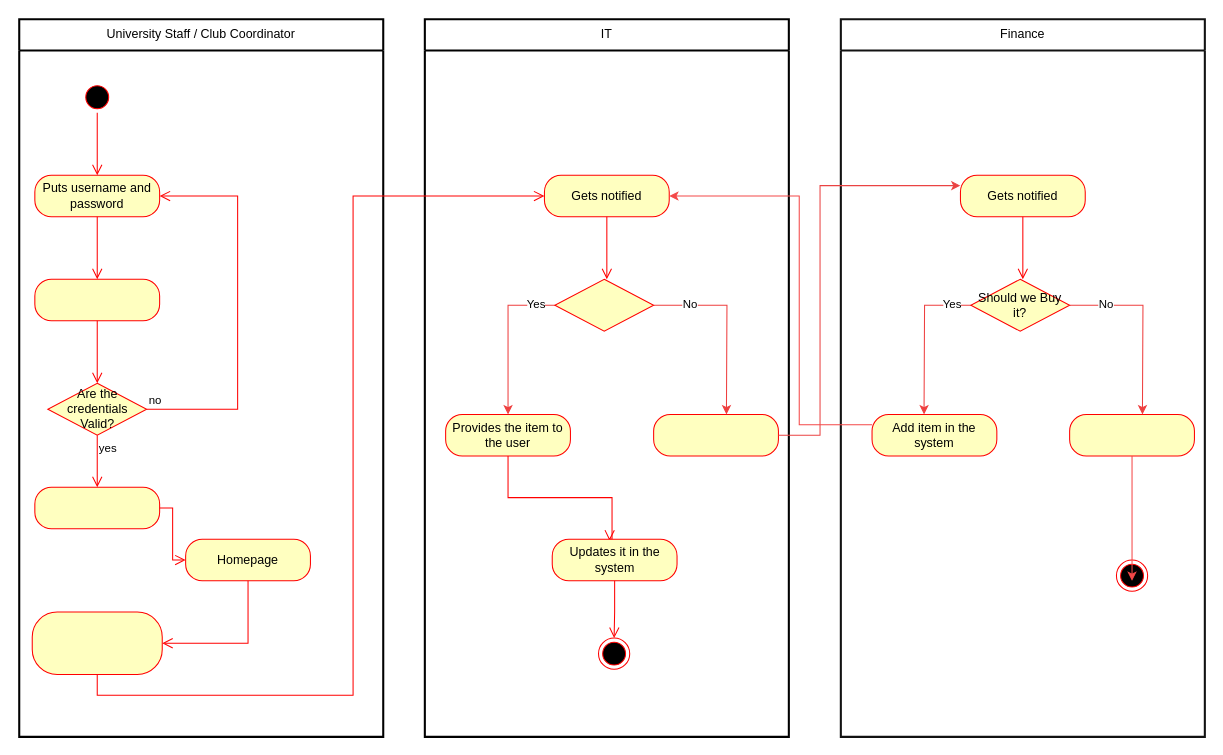
The diagram is 1223 pixels wide and 755 high, and some of its shapes have lost their labels. The centre of each missing label's shape, as x and y in pixels:
"Activity" belongs at pixel 97 507.
"Authentication" belongs at pixel 97 299.
"Forwards the request to finance" belongs at pixel 715 434.
"Is item in stock" belongs at pixel 604 304.
"Notifies University Staff or Club coordinator" belongs at pixel 1131 434.
"Send an Item request" belongs at pixel 96 642.
